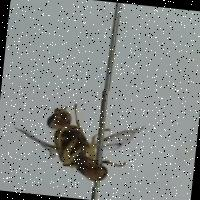Oriental-fruit-fly: (5, 80, 180, 194)
